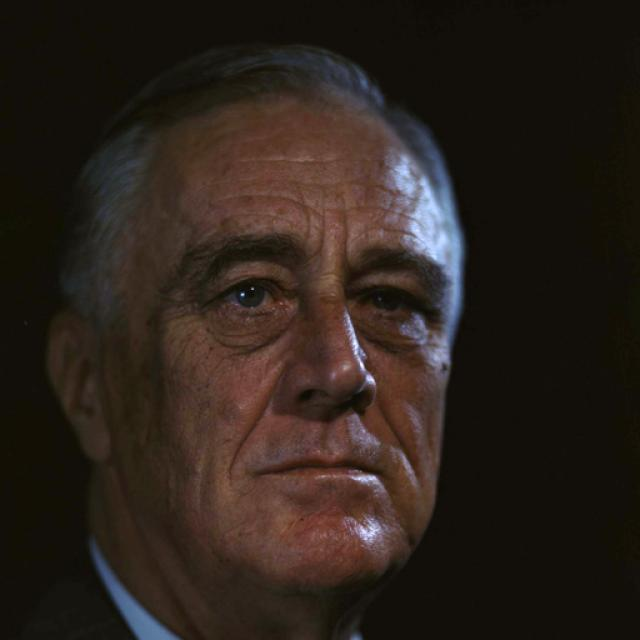sad: (108, 85, 462, 588)
